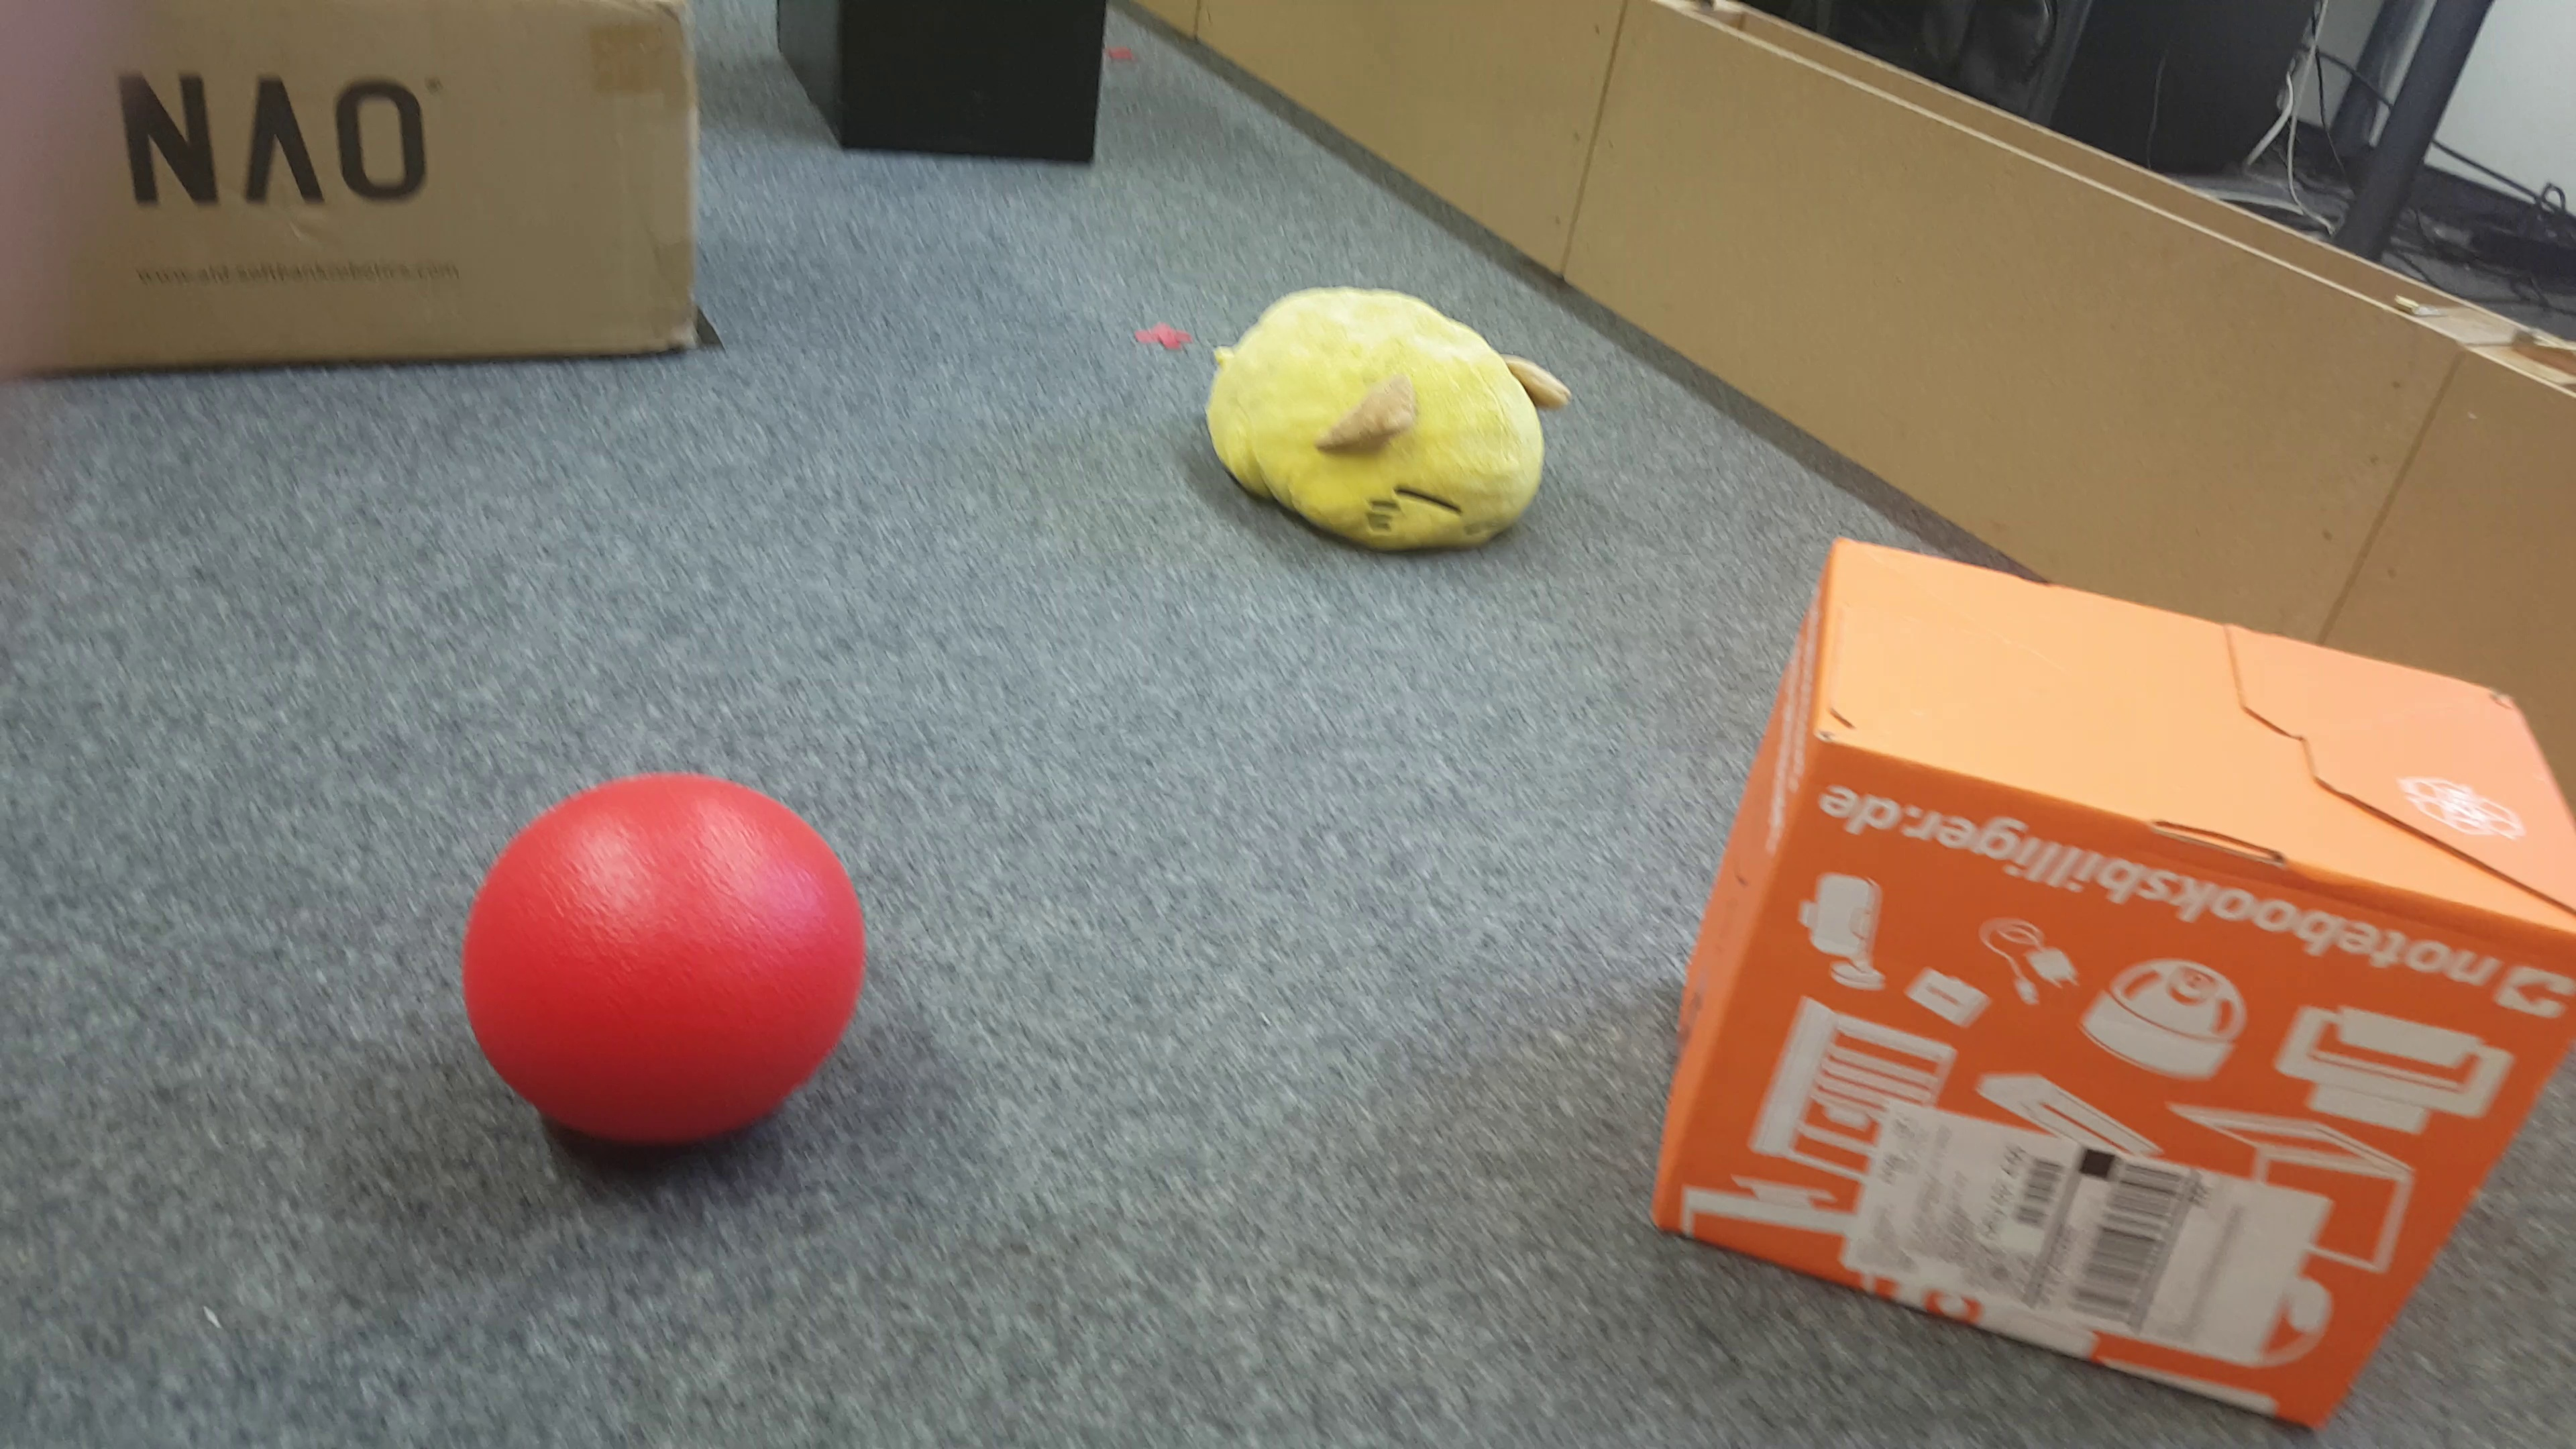grasp: (1200, 276, 1576, 563)
kick: (464, 773, 872, 1152)
push: (1651, 527, 2576, 1433), (775, 9, 1111, 175)
